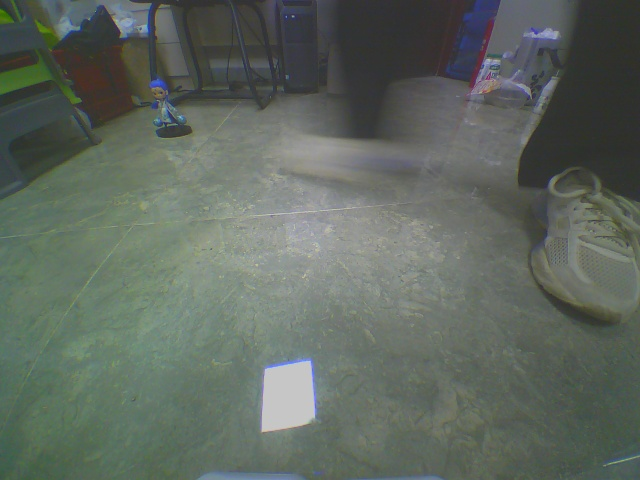Aobing: (134, 72, 195, 149)
